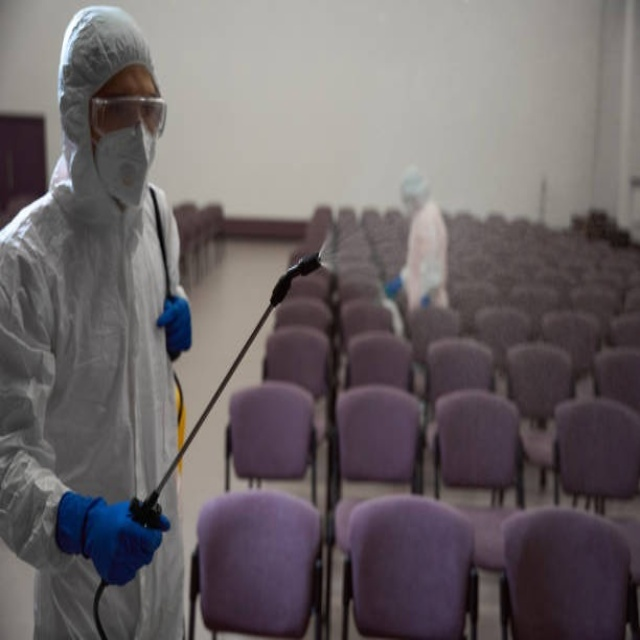Gafas: (89, 95, 166, 139)
Guantes: (53, 477, 173, 595), (153, 289, 199, 361)
Mascara: (92, 121, 169, 209)
